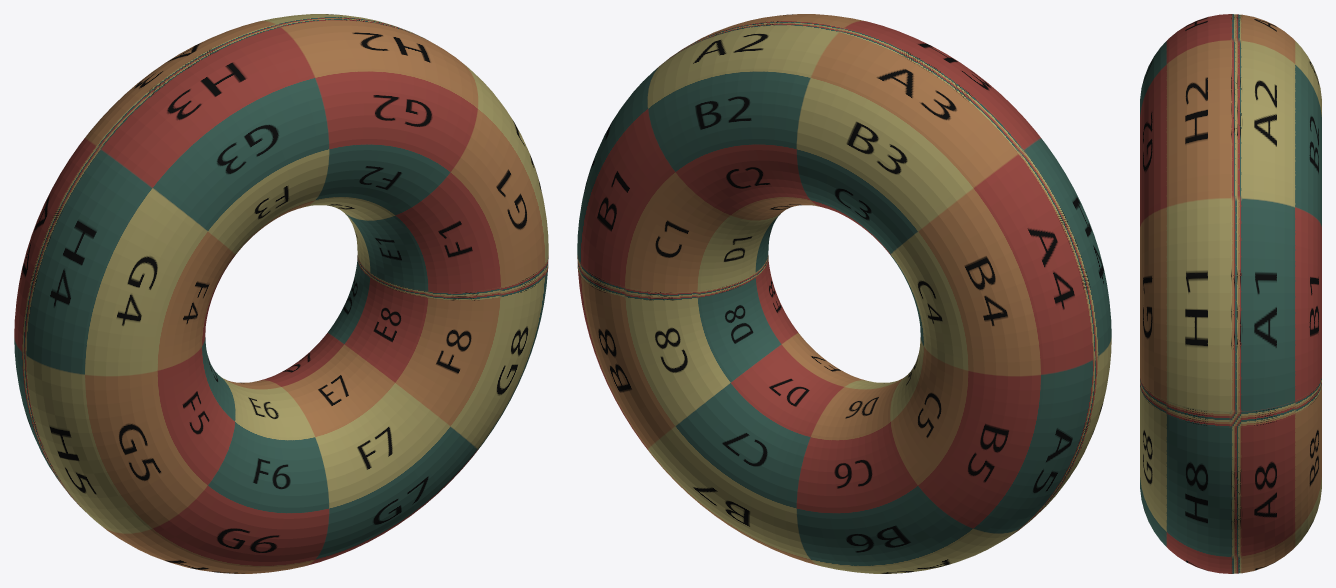
File: texture_torus_R4_r8.glb
3 views of the same model, side by side, from view 1: azimuth 30°, elevation 25°; view 2: azimuth 150°, elevation 25°; view 3: azimuth 270°, elevation 25° (orthographic). The views are drawn at different scales.
Visible parts, largest first — view 1: world; view 2: world; view 3: world.
Part boxes in pixels (x1=…): world: x1=14, y1=14, x2=548, y2=573; world: x1=577, y1=14, x2=1111, y2=573; world: x1=1140, y1=14, x2=1321, y2=573.
Size of the model in its own units: 28 by 28 by 9.09.
1 material, 1 textured.
